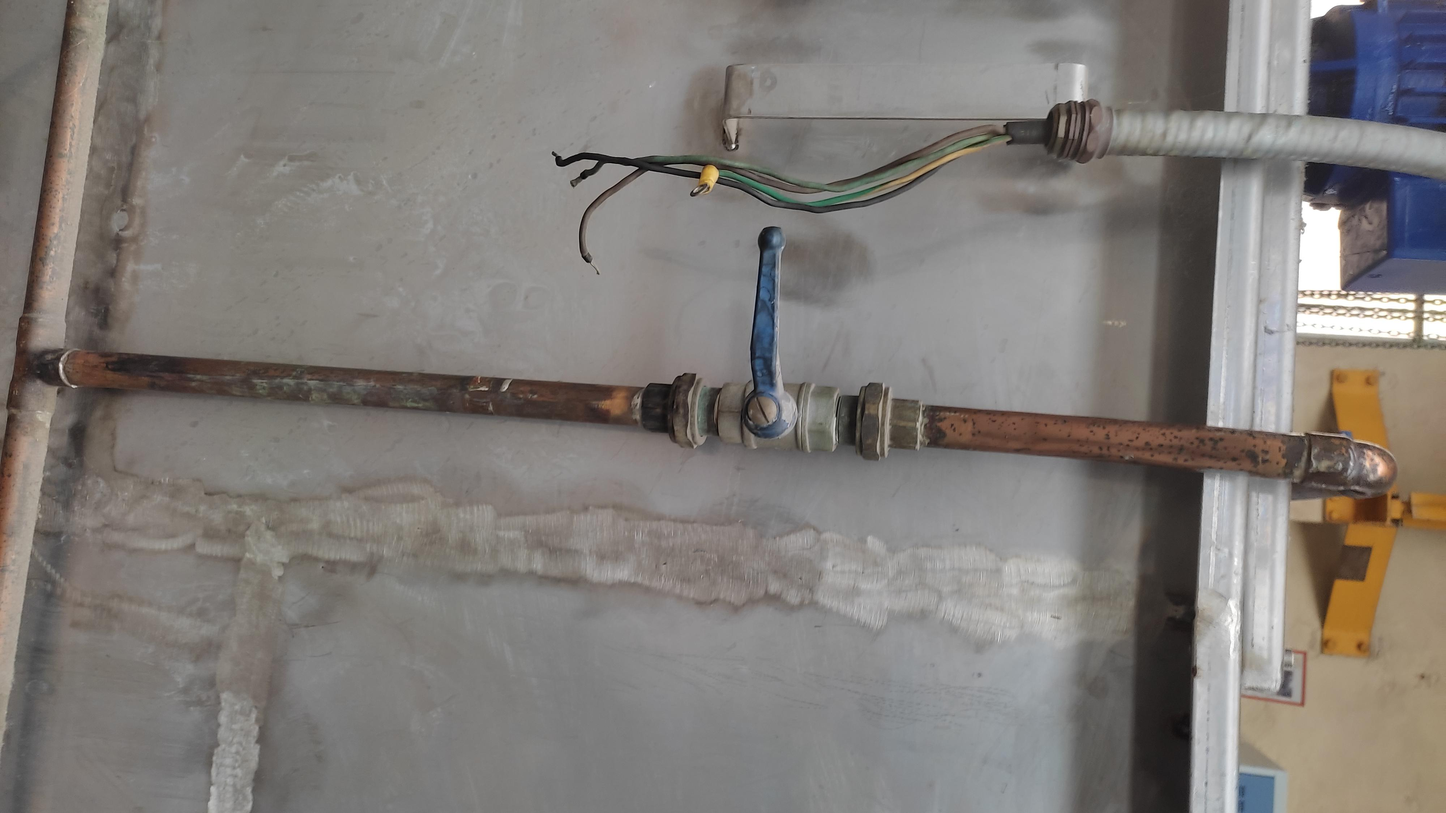closed valve: (712, 223, 843, 457)
